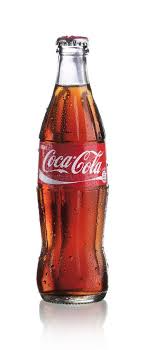bottle: (33, 28, 112, 310)
